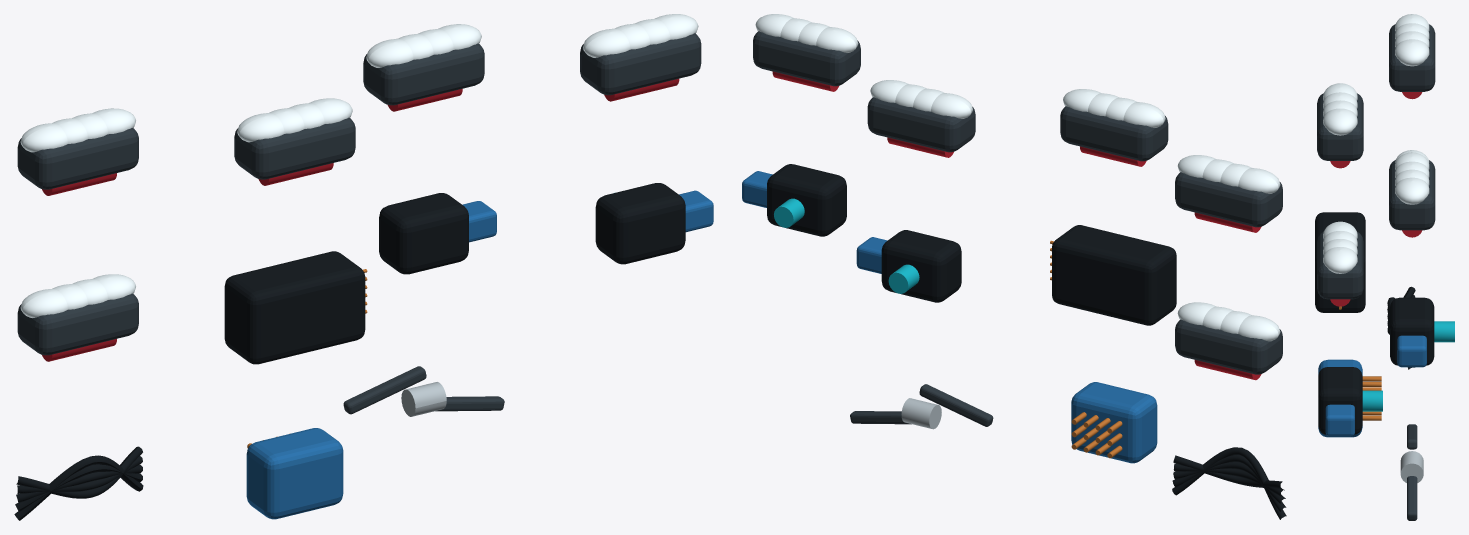
The model's file is generic_passive_safety.glb.
The picture shows the model from 3 angles, left to right: view 1: azimuth 30°, elevation 25°; view 2: azimuth 150°, elevation 25°; view 3: azimuth 270°, elevation 25°; orthographic projection. The views are drawn at different scales.
Parts seen in each view (by area): view 1: system_mesh__srs_module__housing, system_mesh__srs_connectors__shell, system_mesh__safing_sensor__sealed_body, system_mesh__impact_sensors__sealed_body, system_mesh__side_airbags__module_case, system_mesh__knee_airbag__module_case, system_mesh__curtain_airbags__module_case, system_mesh__driver_airbag__module_case, system_mesh__passenger_airbag__module_case, system_mesh__seatbelt_pretensioner__left_link, system_mesh__seatbelt_pretensioner__pivot, system_mesh__srs_harness__route_1 (+9 smaller); view 2: system_mesh__srs_module__housing, system_mesh__srs_connectors__shell, system_mesh__impact_sensors__sealed_body, system_mesh__safing_sensor__sealed_body, system_mesh__side_airbags__module_case, system_mesh__passenger_airbag__module_case, system_mesh__driver_airbag__module_case, system_mesh__curtain_airbags__module_case, system_mesh__knee_airbag__module_case, system_mesh__seatbelt_pretensioner__left_link, system_mesh__srs_harness__route_1, system_mesh__seatbelt_pretensioner__pivot (+11 smaller); view 3: system_mesh__impact_sensors__sealed_body, system_mesh__safing_sensor__sealed_body, system_mesh__side_airbags__module_case, system_mesh__curtain_airbags__module_case, system_mesh__passenger_airbag__module_case, system_mesh__driver_airbag__module_case, system_mesh__srs_module__housing, system_mesh__impact_sensors__connector, system_mesh__safing_sensor__connector, system_mesh__passenger_airbag__fold_4, system_mesh__side_airbags__fold_4, system_mesh__driver_airbag__fold_4 (+19 smaller).
Boxes of the visible parts, x1=… form: system_mesh__srs_module__housing: x1=224, y1=251, x2=365, y2=364; system_mesh__srs_connectors__shell: x1=246, y1=428, x2=343, y2=519; system_mesh__safing_sensor__sealed_body: x1=595, y1=183, x2=685, y2=264; system_mesh__impact_sensors__sealed_body: x1=379, y1=193, x2=468, y2=274; system_mesh__side_airbags__module_case: x1=363, y1=43, x2=484, y2=105; system_mesh__knee_airbag__module_case: x1=17, y1=293, x2=138, y2=355; system_mesh__curtain_airbags__module_case: x1=580, y1=33, x2=701, y2=95; system_mesh__driver_airbag__module_case: x1=17, y1=128, x2=138, y2=189; system_mesh__passenger_airbag__module_case: x1=234, y1=117, x2=355, y2=179; system_mesh__seatbelt_pretensioner__left_link: x1=343, y1=366, x2=426, y2=414; system_mesh__seatbelt_pretensioner__pivot: x1=401, y1=382, x2=446, y2=416; system_mesh__srs_harness__route_1: x1=14, y1=455, x2=143, y2=520; system_mesh__srs_module__housing: x1=1052, y1=225, x2=1176, y2=325; system_mesh__srs_connectors__shell: x1=1071, y1=382, x2=1157, y2=463; system_mesh__impact_sensors__sealed_body: x1=881, y1=230, x2=961, y2=302; system_mesh__safing_sensor__sealed_body: x1=767, y1=164, x2=846, y2=236; system_mesh__side_airbags__module_case: x1=867, y1=97, x2=975, y2=152; system_mesh__passenger_airbag__module_case: x1=1060, y1=106, x2=1168, y2=161; system_mesh__driver_airbag__module_case: x1=1175, y1=172, x2=1282, y2=227; system_mesh__curtain_airbags__module_case: x1=753, y1=31, x2=860, y2=86; system_mesh__knee_airbag__module_case: x1=1175, y1=319, x2=1282, y2=374; system_mesh__seatbelt_pretensioner__left_link: x1=919, y1=384, x2=993, y2=426; system_mesh__srs_harness__route_1: x1=1172, y1=447, x2=1286, y2=519; system_mesh__seatbelt_pretensioner__pivot: x1=901, y1=398, x2=941, y2=429; system_mesh__impact_sensors__sealed_body: x1=1390, y1=297, x2=1434, y2=365; system_mesh__safing_sensor__sealed_body: x1=1318, y1=367, x2=1362, y2=434; system_mesh__side_airbags__module_case: x1=1389, y1=162, x2=1435, y2=230; system_mesh__curtain_airbags__module_case: x1=1317, y1=232, x2=1363, y2=299; system_mesh__passenger_airbag__module_case: x1=1317, y1=93, x2=1363, y2=160; system_mesh__driver_airbag__module_case: x1=1389, y1=24, x2=1435, y2=91; system_mesh__srs_module__housing: x1=1315, y1=212, x2=1365, y2=312; system_mesh__impact_sensors__connector: x1=1397, y1=335, x2=1426, y2=367; system_mesh__safing_sensor__connector: x1=1325, y1=404, x2=1354, y2=436; system_mesh__passenger_airbag__fold_4: x1=1323, y1=108, x2=1357, y2=135; system_mesh__side_airbags__fold_4: x1=1395, y1=177, x2=1429, y2=204; system_mesh__driver_airbag__fold_4: x1=1395, y1=39, x2=1429, y2=66.
Size of the model in its own units: 5.81 by 3.4 by 1.32.
